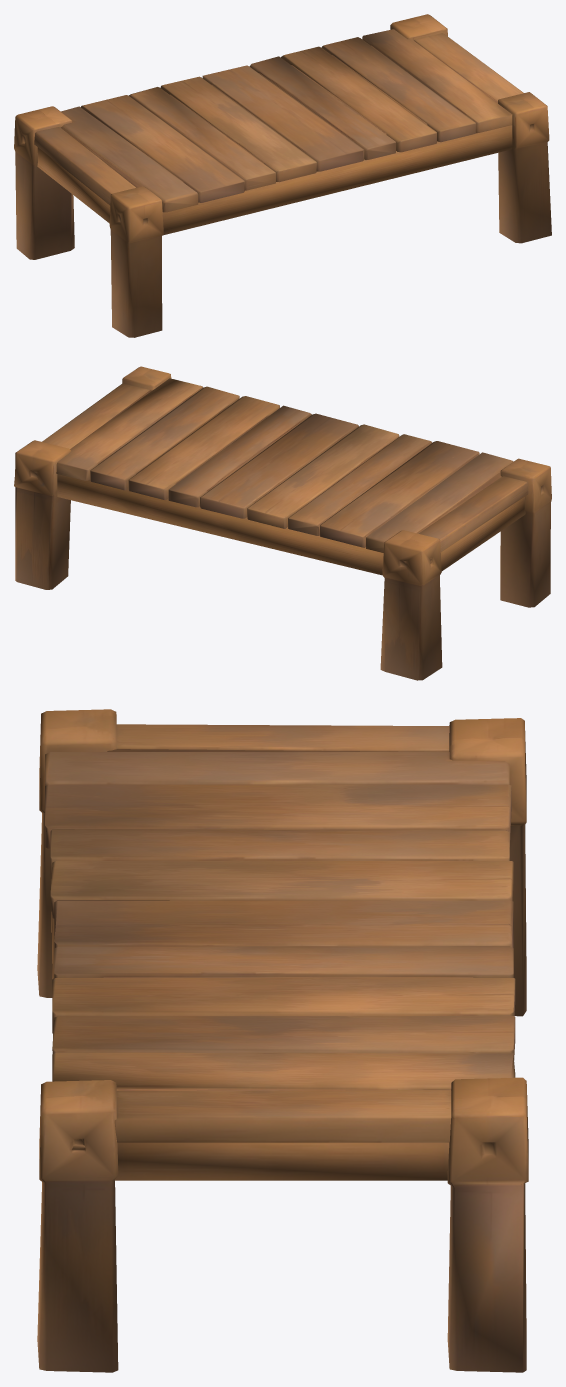
Rendered from pier.glb.
The picture shows the model from 3 angles, top to bottom: view 1: azimuth 30°, elevation 25°; view 2: azimuth 150°, elevation 25°; view 3: azimuth 270°, elevation 25°; orthographic projection. The views are drawn at different scales.
Parts seen in each view (by area): view 1: tripo_node_0e594c93-db32-40a0-a574-a3b2ec954532; view 2: tripo_node_0e594c93-db32-40a0-a574-a3b2ec954532; view 3: tripo_node_0e594c93-db32-40a0-a574-a3b2ec954532.
Boxes of the visible parts, <box> form: tripo_node_0e594c93-db32-40a0-a574-a3b2ec954532: <box>14,14,551,337</box>; tripo_node_0e594c93-db32-40a0-a574-a3b2ec954532: <box>14,366,551,680</box>; tripo_node_0e594c93-db32-40a0-a574-a3b2ec954532: <box>37,709,528,1372</box>.
Size of the model in its own units: 0.998 by 0.2988 by 0.5098.
Materials: 1 (1 with a texture image).
